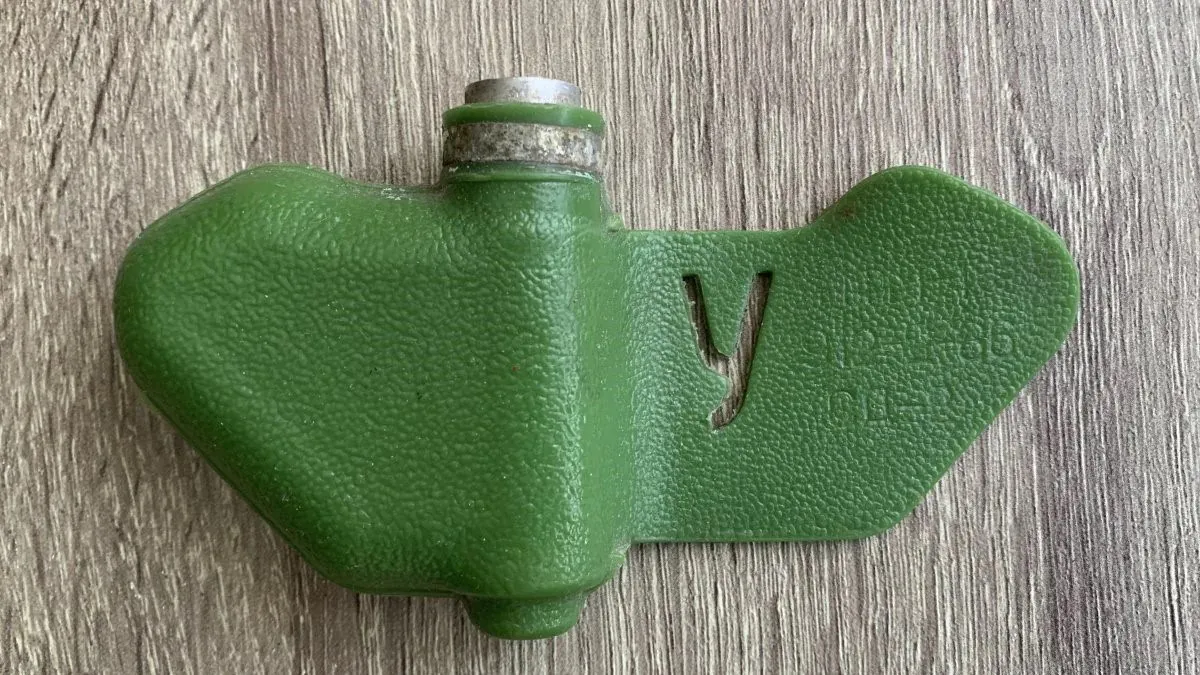butterfly: (81, 37, 1093, 659)
